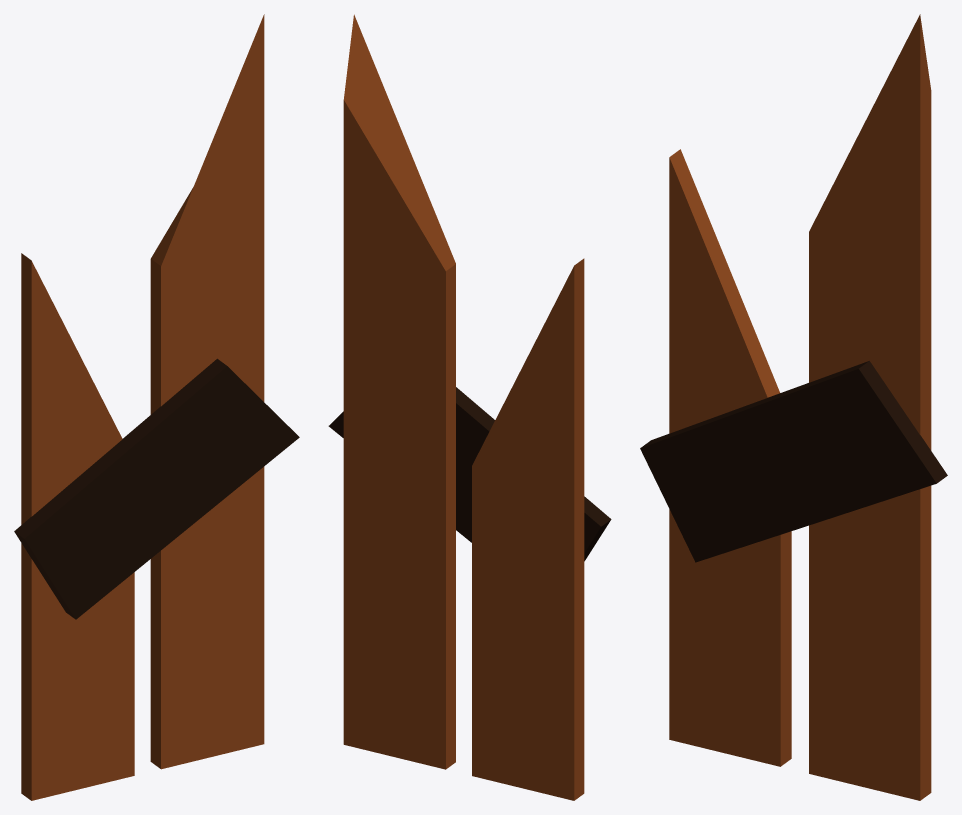
File: wooden_wall_center_des0.FBX
3 views of the same model, side by side, from view 1: azimuth 30°, elevation 25°; view 2: azimuth 150°, elevation 25°; view 3: azimuth 330°, elevation 25° (orthographic). The views are drawn at different scales.
Visible parts, largest first — view 1: Quader026, Quader025, Quader027; view 2: Quader026, Quader025, Quader027; view 3: Quader026, Quader025, Quader027.
Boxes of the visible parts, x1,y1,x2,y2 form: Quader026: (150, 14, 264, 769); Quader025: (21, 253, 134, 800); Quader027: (14, 358, 299, 619); Quader026: (343, 14, 455, 769); Quader025: (472, 258, 584, 800); Quader027: (328, 387, 611, 561); Quader026: (809, 14, 931, 800); Quader025: (669, 149, 791, 766); Quader027: (640, 361, 947, 562).
Bounding box in the file's own units: 0.000277 × 3.57e-05 × 0.000702.
